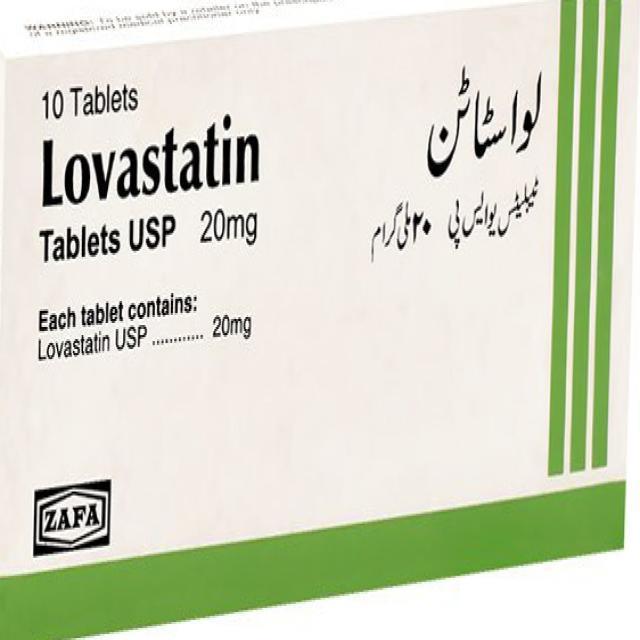drug-name: (36, 109, 263, 215)
